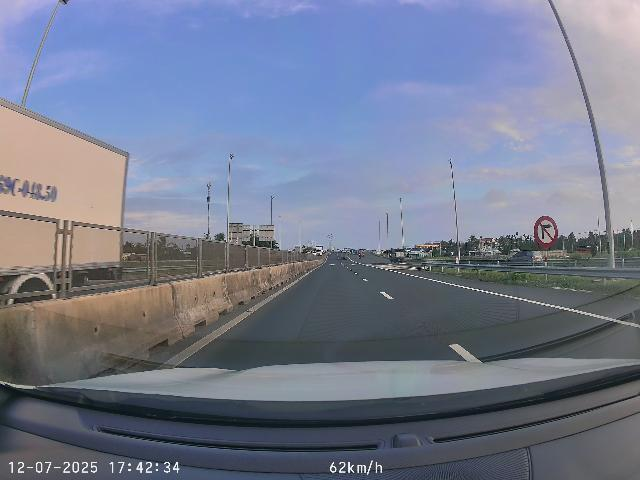123b-cam-re-phai: (533, 215, 558, 248)
